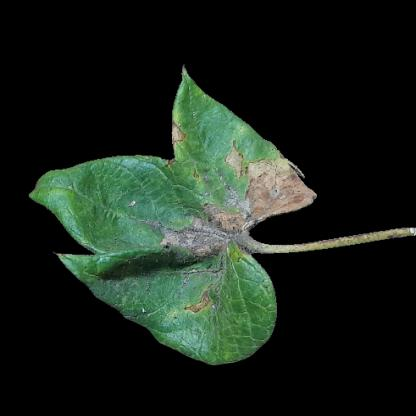curl_stage1: (56, 177, 138, 230)
sooty: (164, 199, 250, 267)
